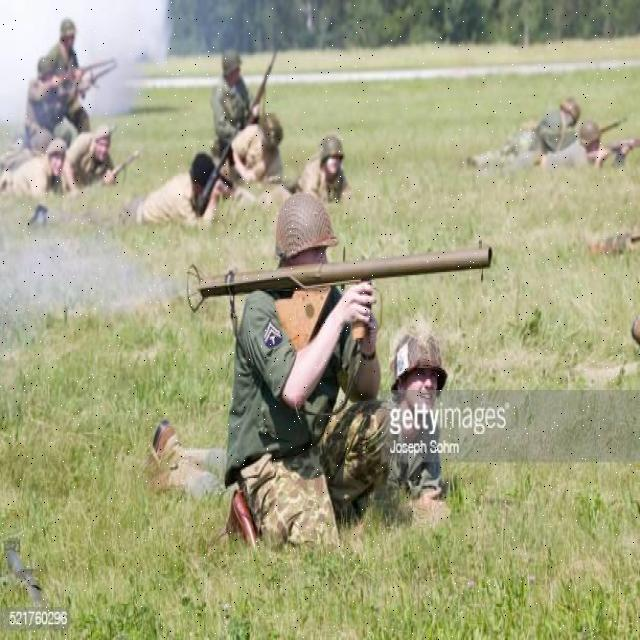bazooka: (185, 231, 498, 327)
